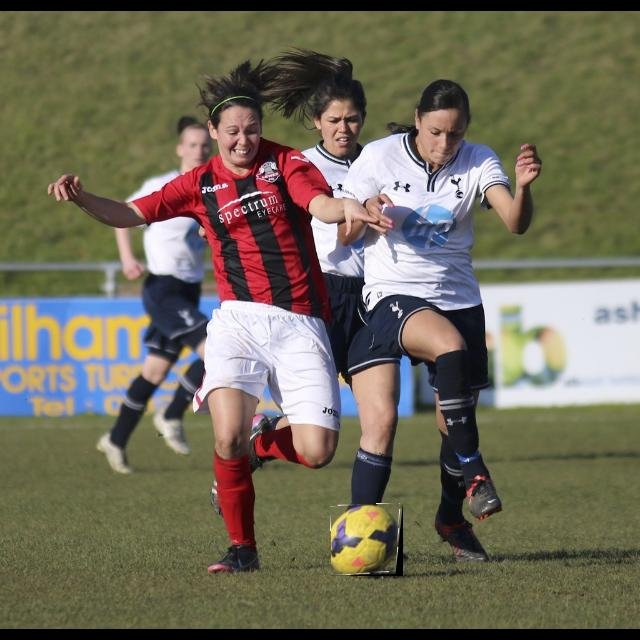Football: (331, 504, 403, 576)
